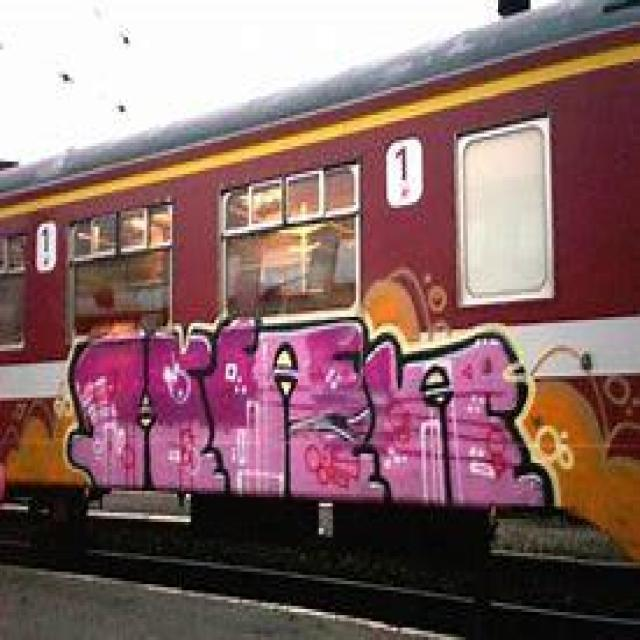nonspitting: (56, 316, 579, 514)
